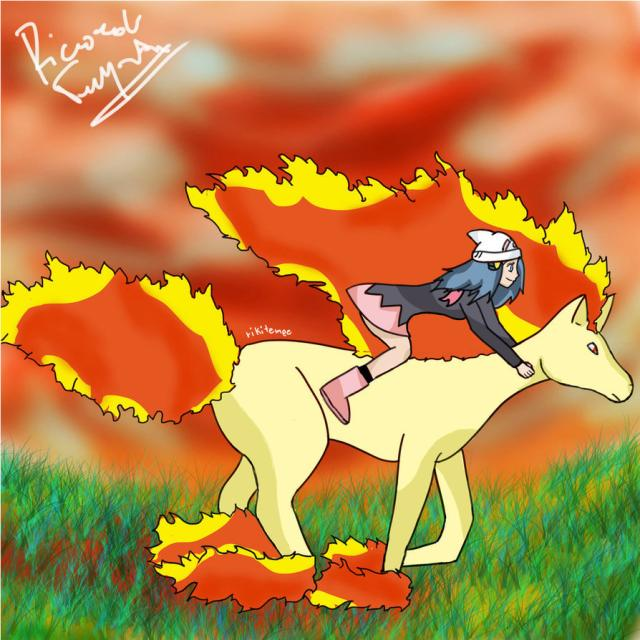Rapidash: (156, 158, 637, 587)
